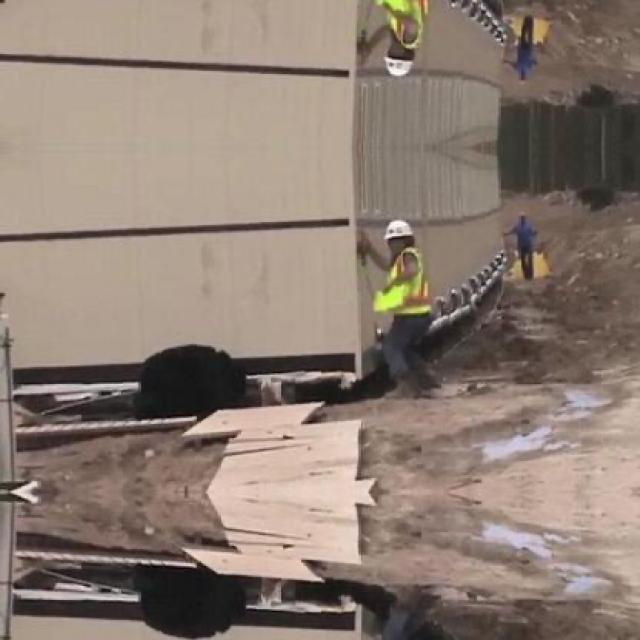helmet: (382, 216, 412, 261), (382, 34, 412, 79)
